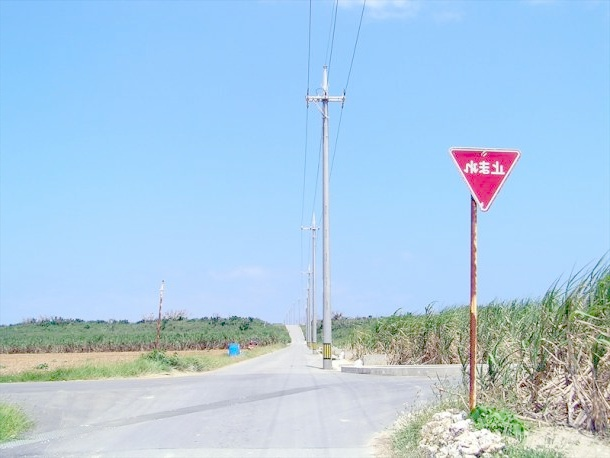Regulatory_sign_triangle: (444, 136, 525, 213)
